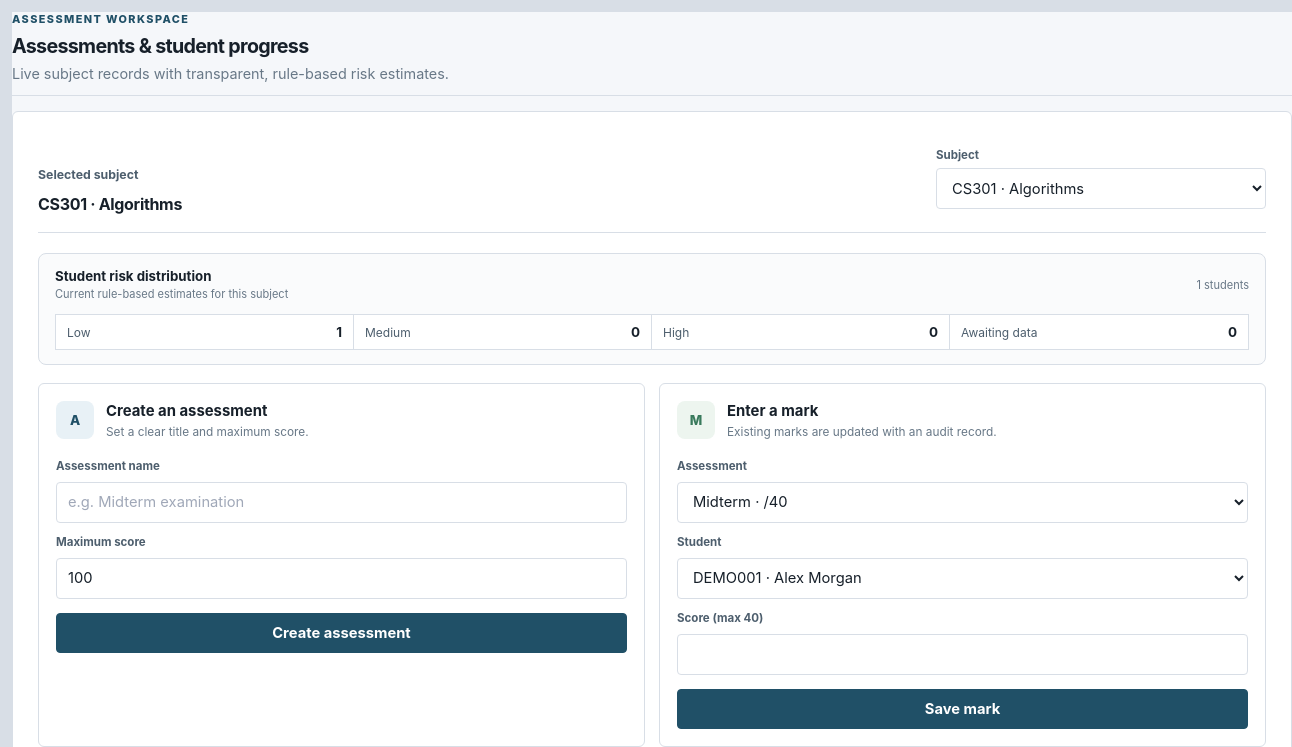
it: academic workspace › lets a professor save an entered mark through the API
Type "35" into the number field labelled "Score (max 40)".
click(962, 654); type("35")  # box 677,634 -> 1248,674
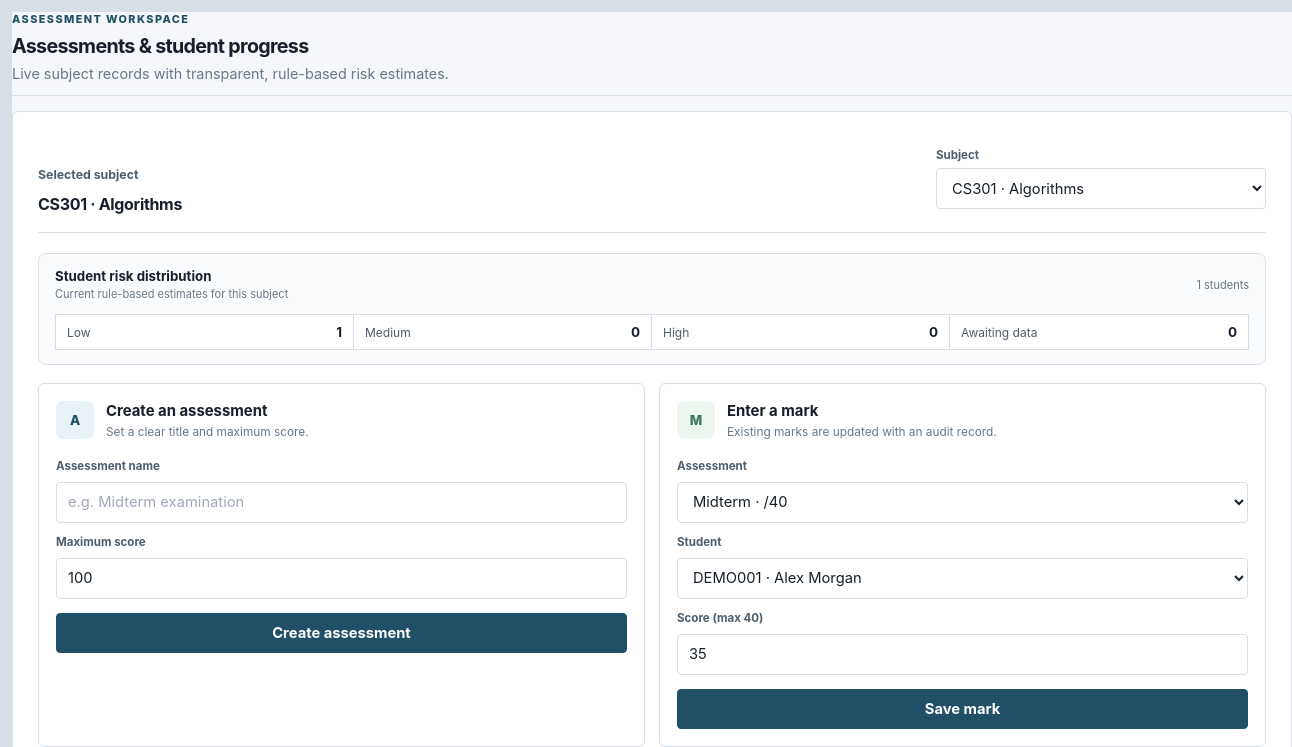
Click the button "Save mark".
click(962, 708)  # box 677,688 -> 1248,728
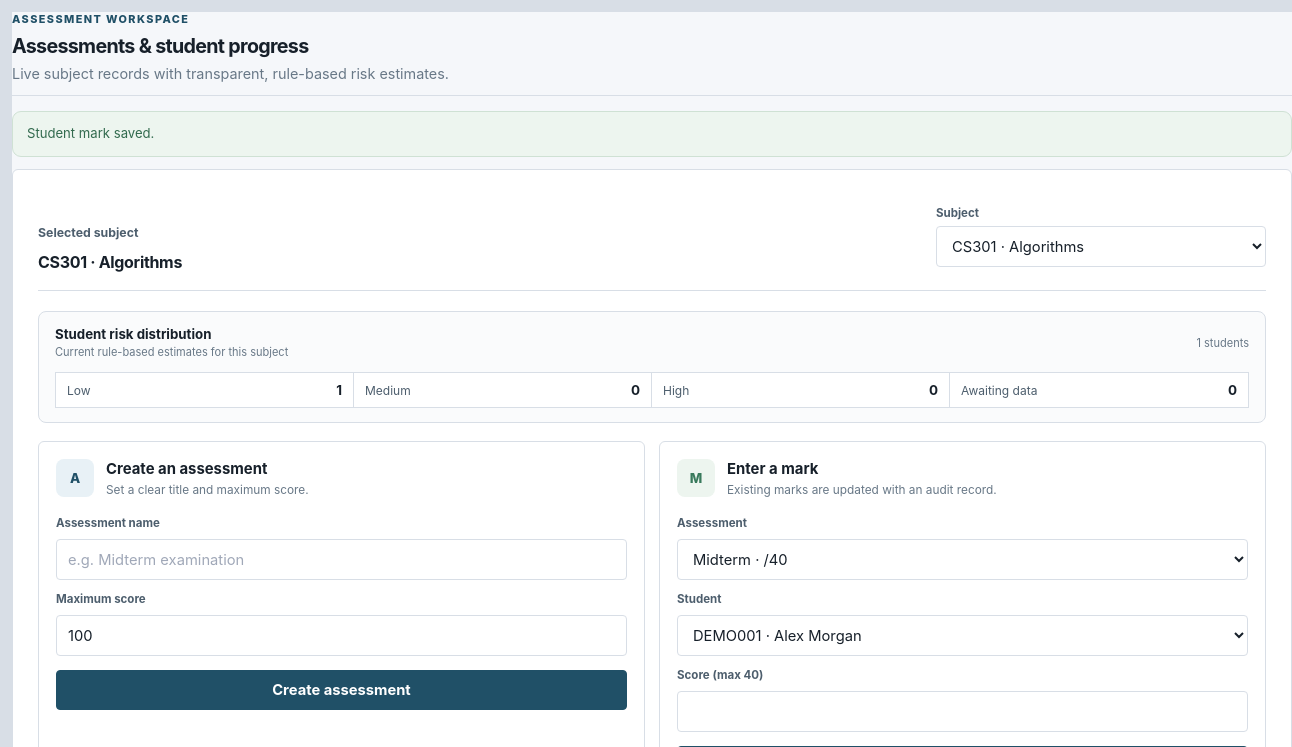
Check: the text "Student mark saved." is shown, box 12,111 -> 1291,157
